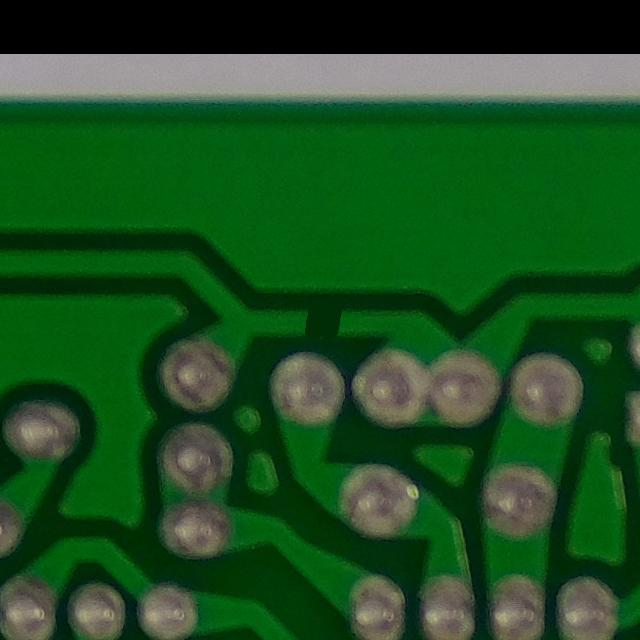open_circuit: (288, 296, 352, 344)
